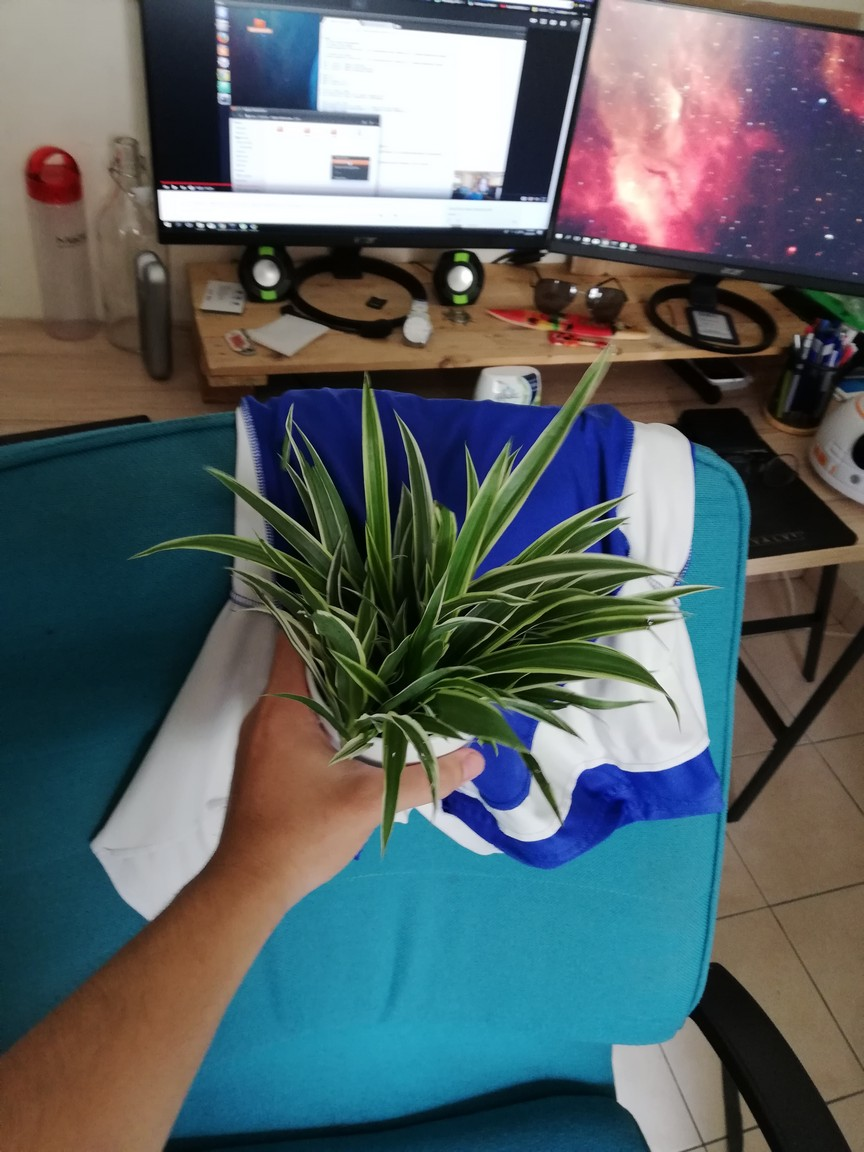daun: (360, 366, 388, 517), (199, 463, 270, 518), (520, 752, 570, 830), (573, 552, 688, 583), (124, 534, 250, 562), (377, 740, 405, 865), (324, 644, 379, 703), (391, 403, 431, 477), (251, 687, 324, 725), (411, 743, 440, 825), (581, 512, 639, 547), (278, 452, 313, 508), (251, 526, 290, 572), (222, 565, 276, 595), (461, 437, 482, 514), (322, 523, 349, 581), (481, 436, 509, 490), (588, 486, 639, 515), (231, 601, 282, 629), (327, 734, 362, 773), (468, 590, 540, 608), (457, 614, 513, 637), (655, 583, 730, 600), (551, 714, 585, 744), (225, 572, 261, 600), (604, 696, 657, 714), (664, 694, 685, 738), (497, 442, 524, 473), (421, 558, 438, 600), (392, 597, 409, 637), (398, 479, 412, 523), (620, 519, 640, 530)
